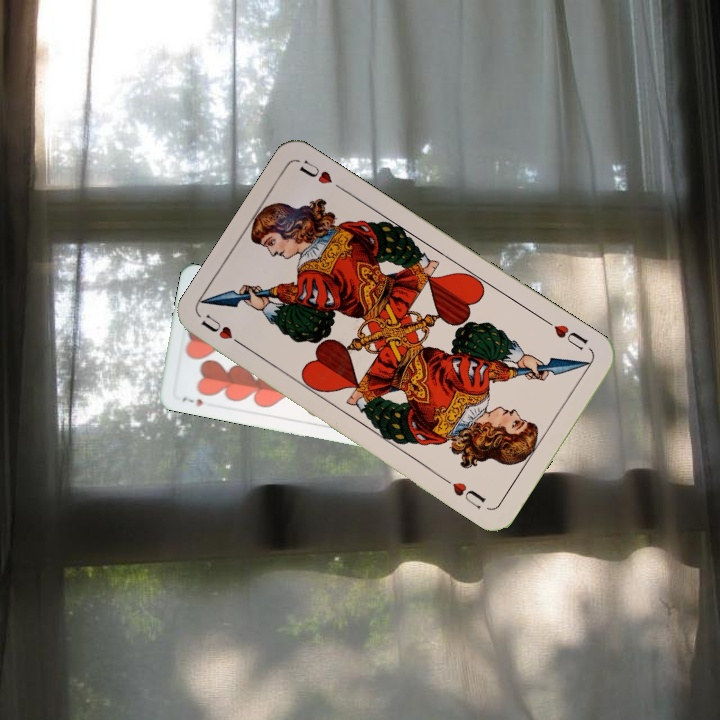H7: (178, 392, 206, 409)
HU: (197, 310, 249, 351), (541, 315, 591, 354)
